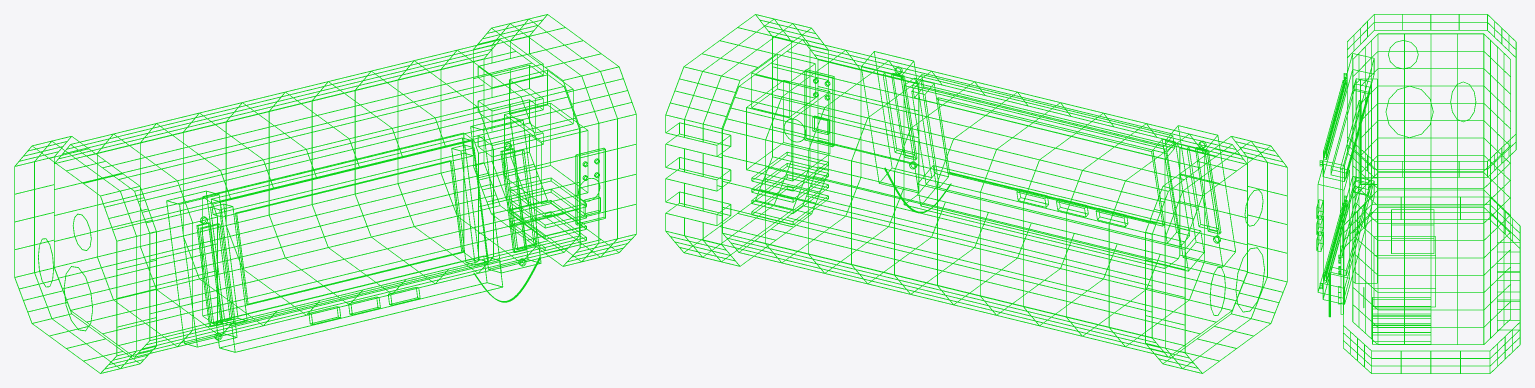
File: long-range-transmitter-wireframe.glb
3 views of the same model, side by side, from view 1: azimuth 30°, elevation 25°; view 2: azimuth 150°, elevation 25°; view 3: azimuth 270°, elevation 25° (orthographic). The views are drawn at different scales.
Parts seen in each view (by area): view 1: chassis technical wire, data-cartridge-drives technical wire, data-encryption-device technical wire, audio-visual-console technical wire; view 2: chassis technical wire, data-encryption-device technical wire, data-cartridge-drives technical wire, audio-visual-console technical wire; view 3: chassis technical wire, data-cartridge-drives technical wire, data-encryption-device technical wire, audio-visual-console technical wire.
Boxes of the visible parts, left/top/right/bottom form: chassis technical wire: left=14, top=14, right=636, bottom=373; data-cartridge-drives technical wire: left=166, top=116, right=541, bottom=347; data-encryption-device technical wire: left=504, top=70, right=605, bottom=250; audio-visual-console technical wire: left=235, top=160, right=463, bottom=324; chassis technical wire: left=665, top=14, right=1287, bottom=373; data-encryption-device technical wire: left=746, top=54, right=834, bottom=224; data-cartridge-drives technical wire: left=861, top=51, right=1235, bottom=267; audio-visual-console technical wire: left=936, top=97, right=1163, bottom=226; chassis technical wire: left=1317, top=14, right=1520, bottom=373; data-cartridge-drives technical wire: left=1319, top=53, right=1374, bottom=304; data-encryption-device technical wire: left=1338, top=209, right=1435, bottom=344; audio-visual-console technical wire: left=1316, top=100, right=1361, bottom=256.
Size of the model in its own units: 3.14 by 1.08 by 1.29.
